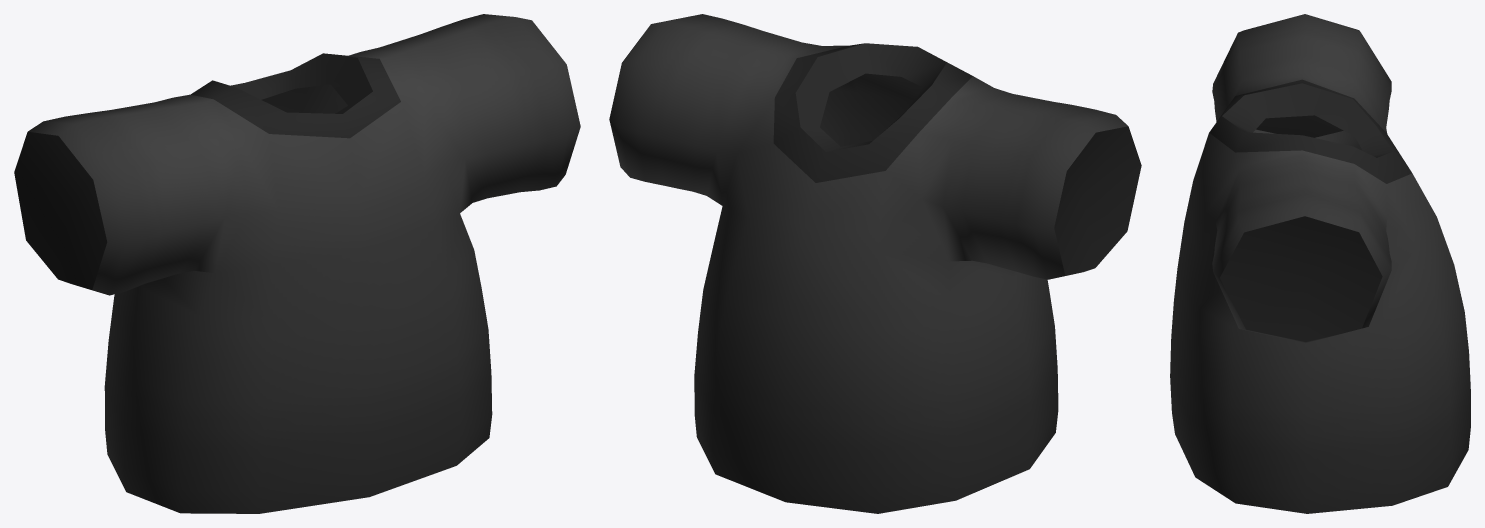
The model's file is Top_2.fbx.
The picture shows the model from 3 angles, left to right: view 1: azimuth 30°, elevation 25°; view 2: azimuth 150°, elevation 25°; view 3: azimuth 270°, elevation 25°; orthographic projection. The views are drawn at different scales.
Visible parts, largest first — view 1: Top_2; view 2: Top_2; view 3: Top_2.
Boxes of the visible parts, x1=… form: Top_2: x1=14, y1=14, x2=580, y2=513; Top_2: x1=609, y1=14, x2=1141, y2=513; Top_2: x1=1170, y1=14, x2=1470, y2=513.
Size of the model in its own units: 58.02 by 45.64 by 36.49.
